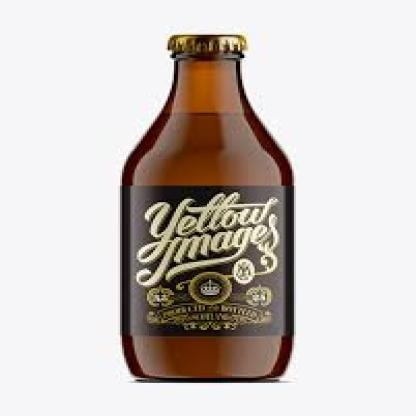trash: (122, 35, 293, 378)
